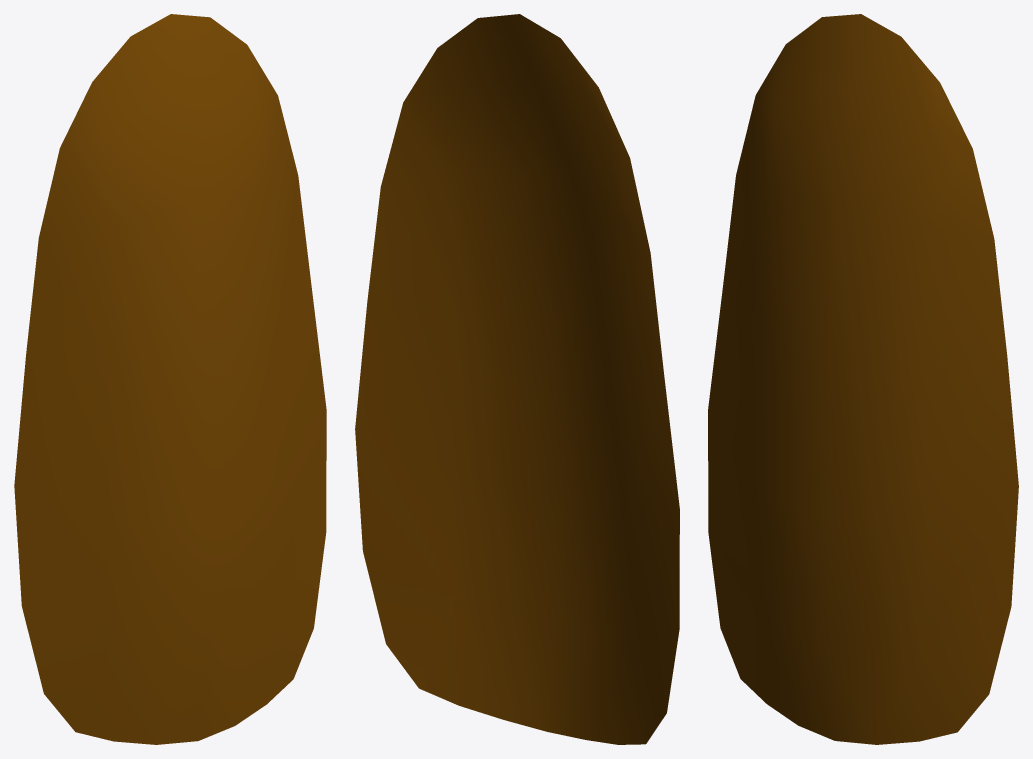
File: MD_nail_oval_HandR.Index.fbx
3 renders of one model, left to right at view 1: azimuth 30°, elevation 25°; view 2: azimuth 150°, elevation 25°; view 3: azimuth 330°, elevation 25°, orthographic. The views are drawn at different scales.
Visible parts, largest first — view 1: MD_nail_oval_HandR.Index; view 2: MD_nail_oval_HandR.Index; view 3: MD_nail_oval_HandR.Index.
Boxes of the visible parts, x1,y1,x2,y2 form: MD_nail_oval_HandR.Index: (14, 14, 326, 744); MD_nail_oval_HandR.Index: (355, 14, 679, 744); MD_nail_oval_HandR.Index: (708, 14, 1018, 744).
Size of the model in its own units: 0.7282 by 1.58 by 0.1554.
